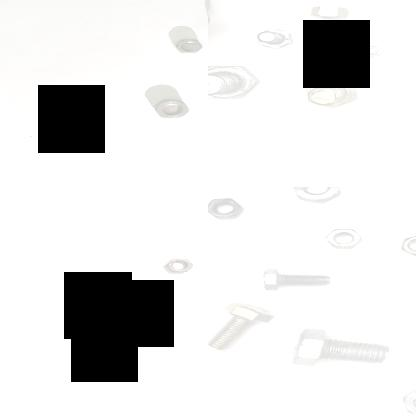Bolts: (284, 322, 392, 370), (208, 300, 278, 358), (283, 72, 376, 115), (256, 267, 334, 296), (208, 62, 265, 101), (256, 24, 294, 52), (356, 44, 393, 60)
NUTS: (321, 224, 371, 252), (208, 195, 256, 221), (301, 2, 355, 24), (291, 187, 345, 209), (151, 97, 194, 121), (160, 254, 196, 274), (394, 230, 416, 262), (396, 385, 416, 416), (174, 38, 204, 53)
